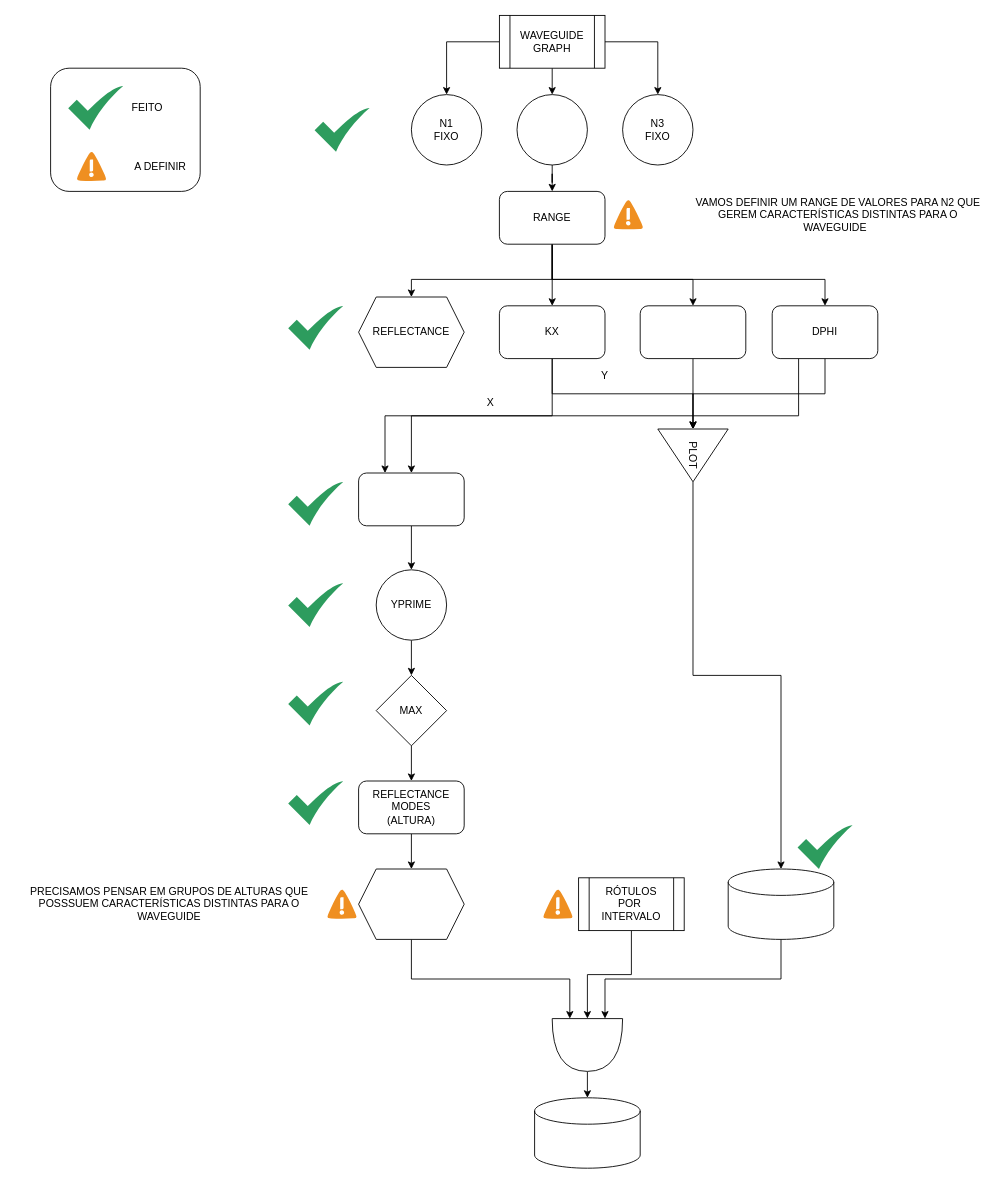
Some shapes in this 1007 by 1184 pixel diagram are drawn without their labels. The shapes that lost their labels are listed below. From the top down, each one's box as (x1, y1, x2, y2) in pixels, then its label:
(516, 94, 587, 165): N2 COMPLEXO
(639, 305, 746, 359): FREQUENCY
(358, 472, 464, 526): LORENTZ FIT
(358, 868, 464, 939): INTERVALOS DE ALTURA
(727, 868, 834, 939): IMAGE DATABASE
(534, 1097, 640, 1168): LABELED IMAGE DATABASE
